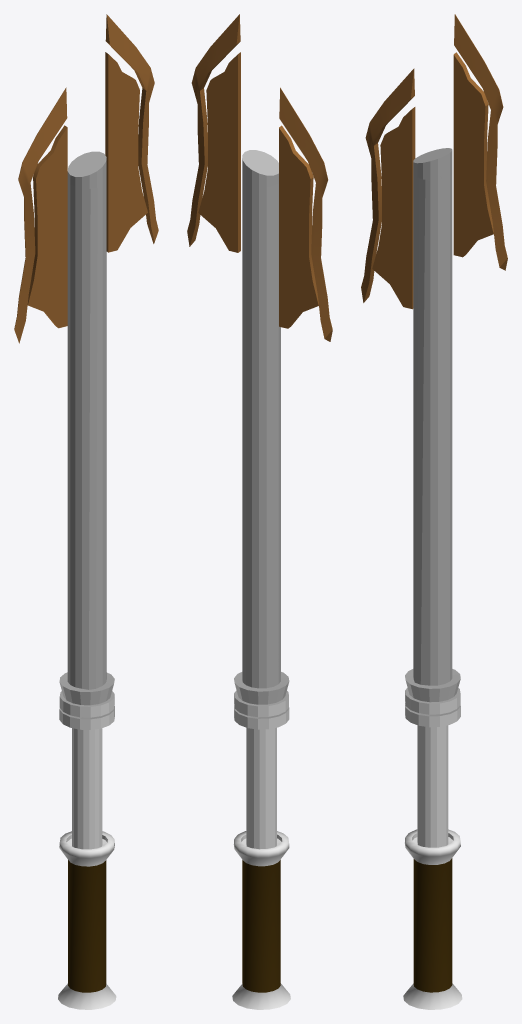
Rendered from Hasta.fbx.
3 renders of one model, left to right at view 1: azimuth 30°, elevation 25°; view 2: azimuth 150°, elevation 25°; view 3: azimuth 330°, elevation 25°, orthographic.
Parts seen in each view (by area): view 1: Hasta; view 2: Hasta; view 3: Hasta.
Part boxes in pixels (<box>): Hasta: <box>14,14,158,1009</box>; Hasta: <box>187,14,332,1009</box>; Hasta: <box>361,14,507,1009</box>.
Size of the model in its own units: 0.4092 by 2.64 by 0.1445.
